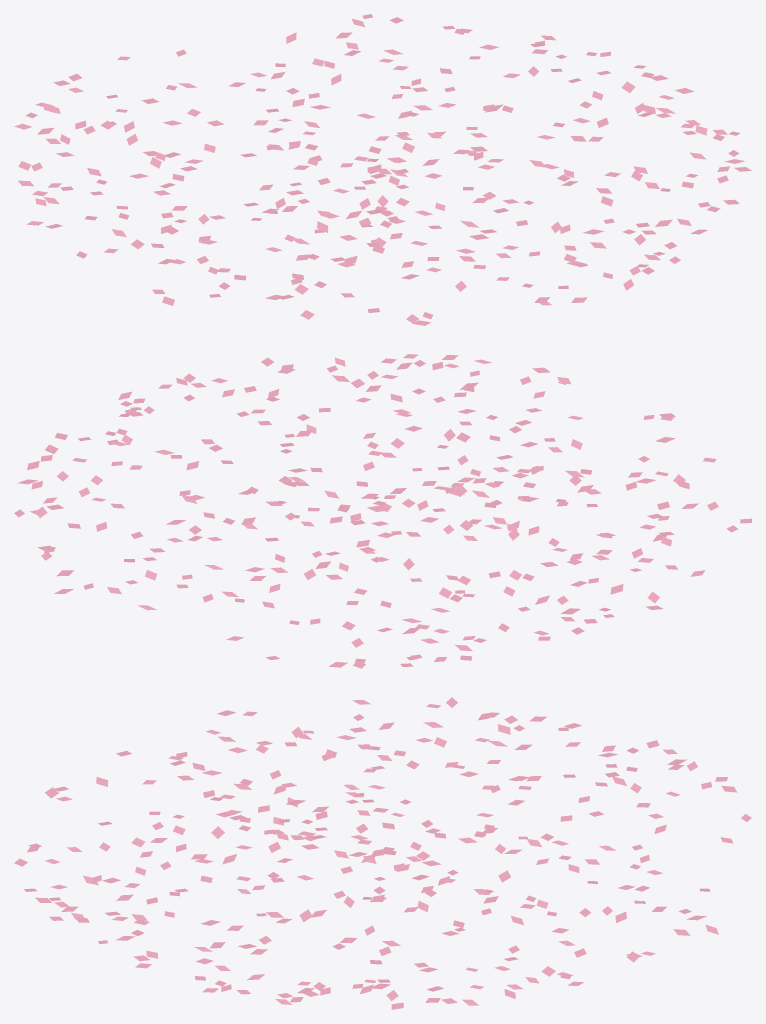
Rendered from petals.glb.
3 views of the same model, one above another, from view 1: azimuth 30°, elevation 25°; view 2: azimuth 150°, elevation 25°; view 3: azimuth 270°, elevation 25° (orthographic).
Visible parts, largest first — view 1: petals; view 2: petals; view 3: petals.
Part boxes in pixels (left/top/right/bottom): petals: left=14, top=14, right=751, bottom=325; petals: left=14, top=354, right=751, bottom=668; petals: left=14, top=697, right=751, bottom=1009.
Bounding box in the file's own units: 4.95 × 0.0603 × 4.95.
